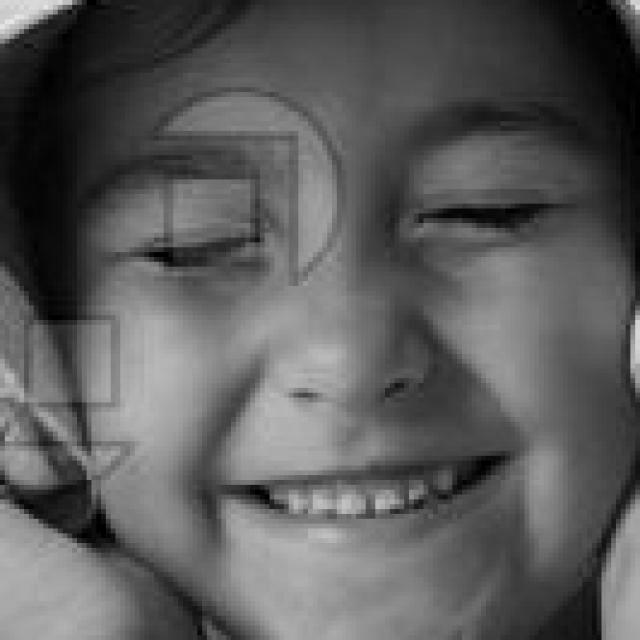real: (52, 0, 637, 640), (103, 184, 581, 290)
